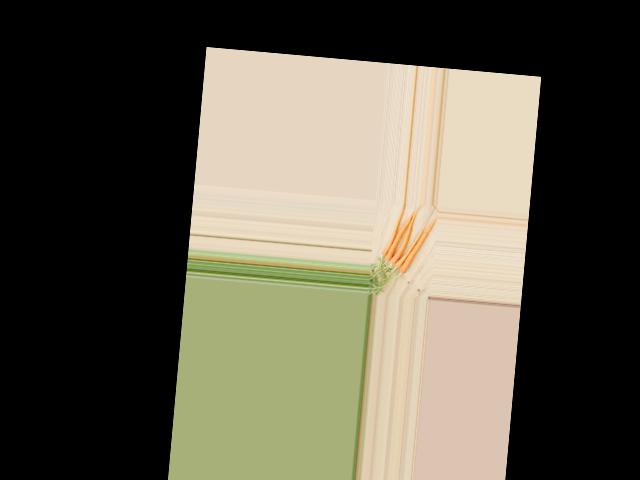carrot: (380, 203, 406, 256)
